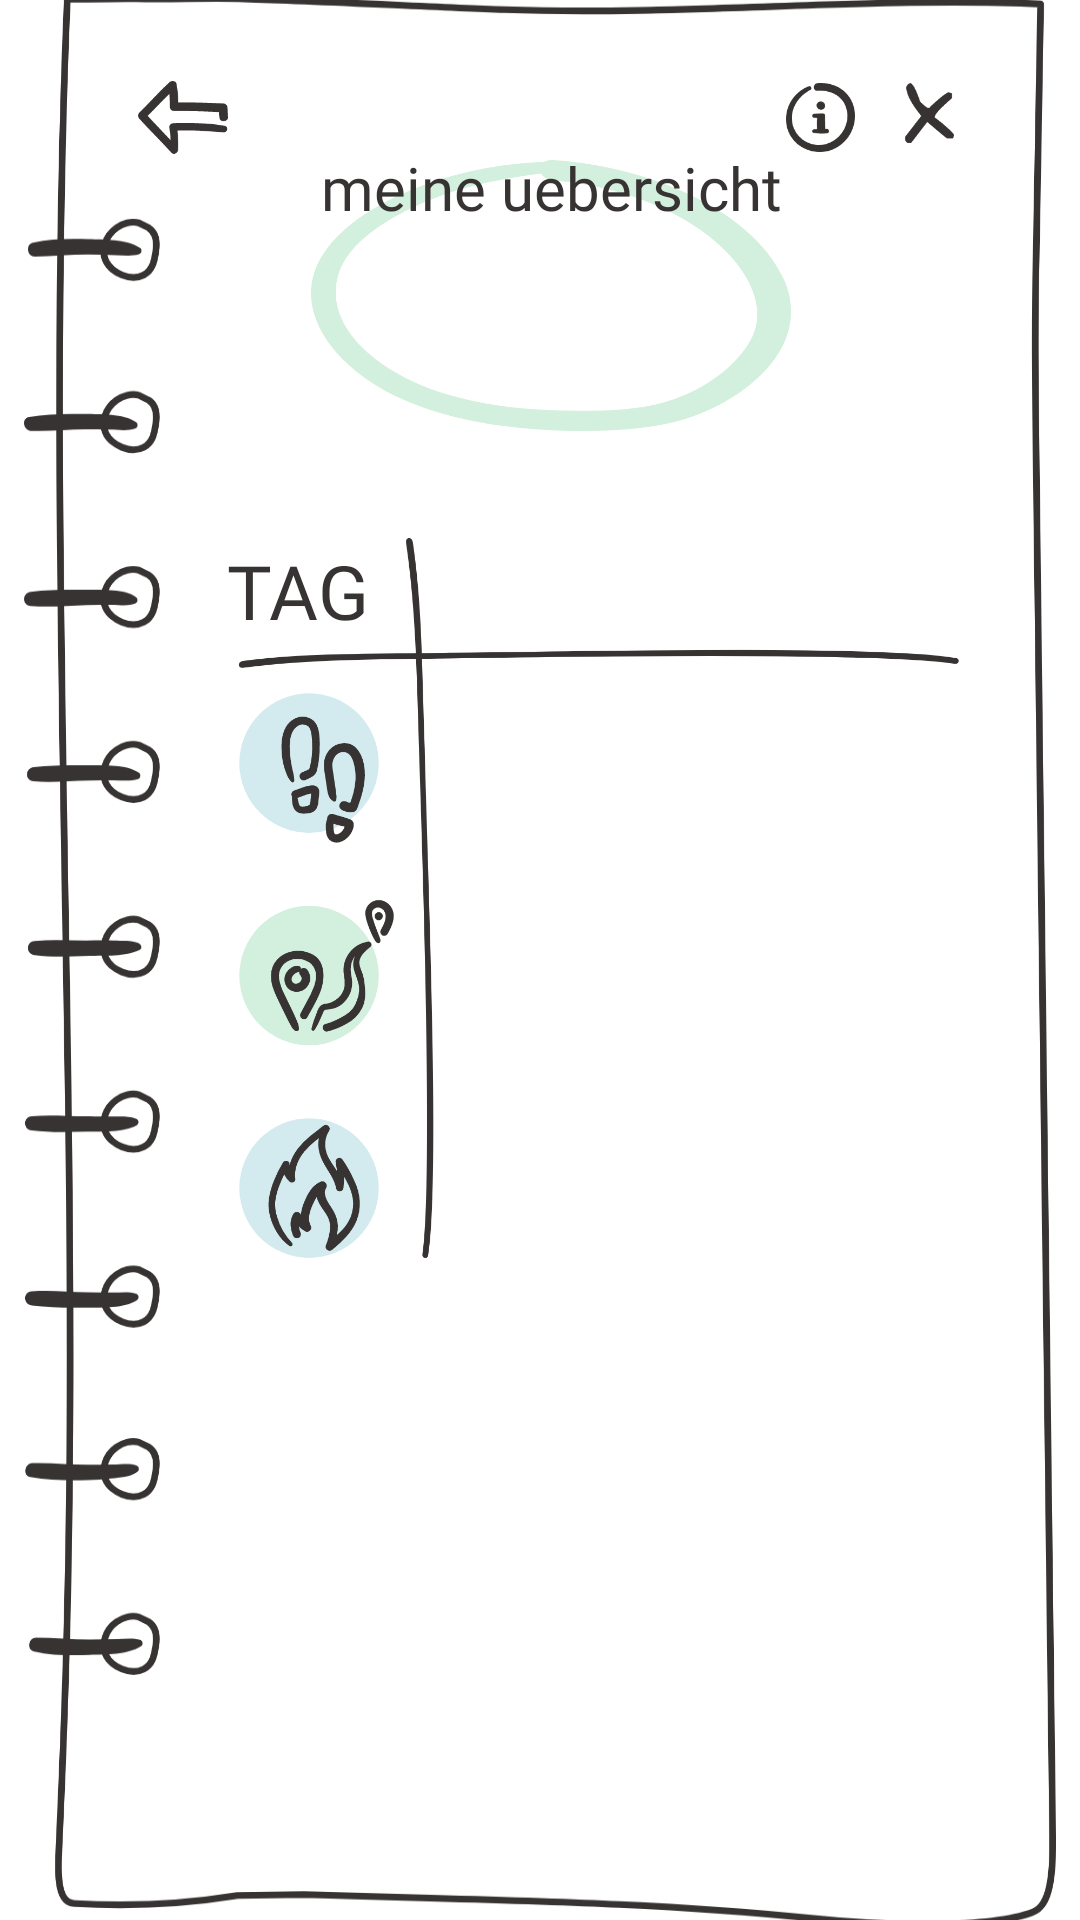

Screen size 1080x1920. Icon name, then its box in pixels as [left=x1, top=y1, right=x2, bottom=y2]:
arrow: [left=138, top=81, right=228, bottom=154]
info: [left=786, top=83, right=855, bottom=152]
